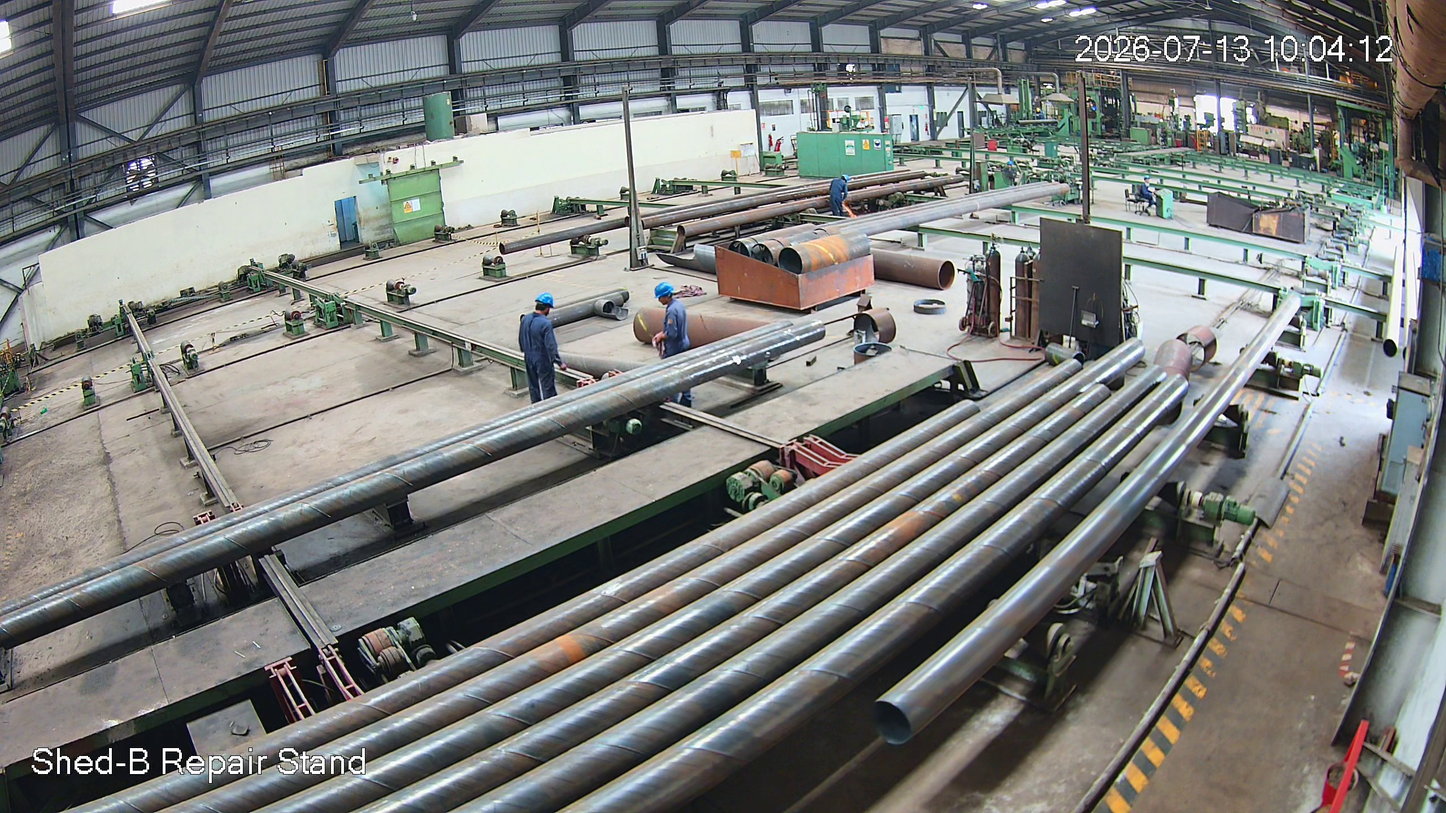Helmet: (653, 279, 680, 311), (531, 291, 558, 321)
Person: (515, 294, 566, 406), (647, 281, 695, 368)
